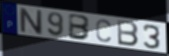3: (142, 24, 162, 50)
9: (46, 12, 65, 38)
B: (116, 19, 140, 48), (68, 13, 92, 41)
C: (95, 18, 112, 43)
N: (18, 7, 45, 36)
